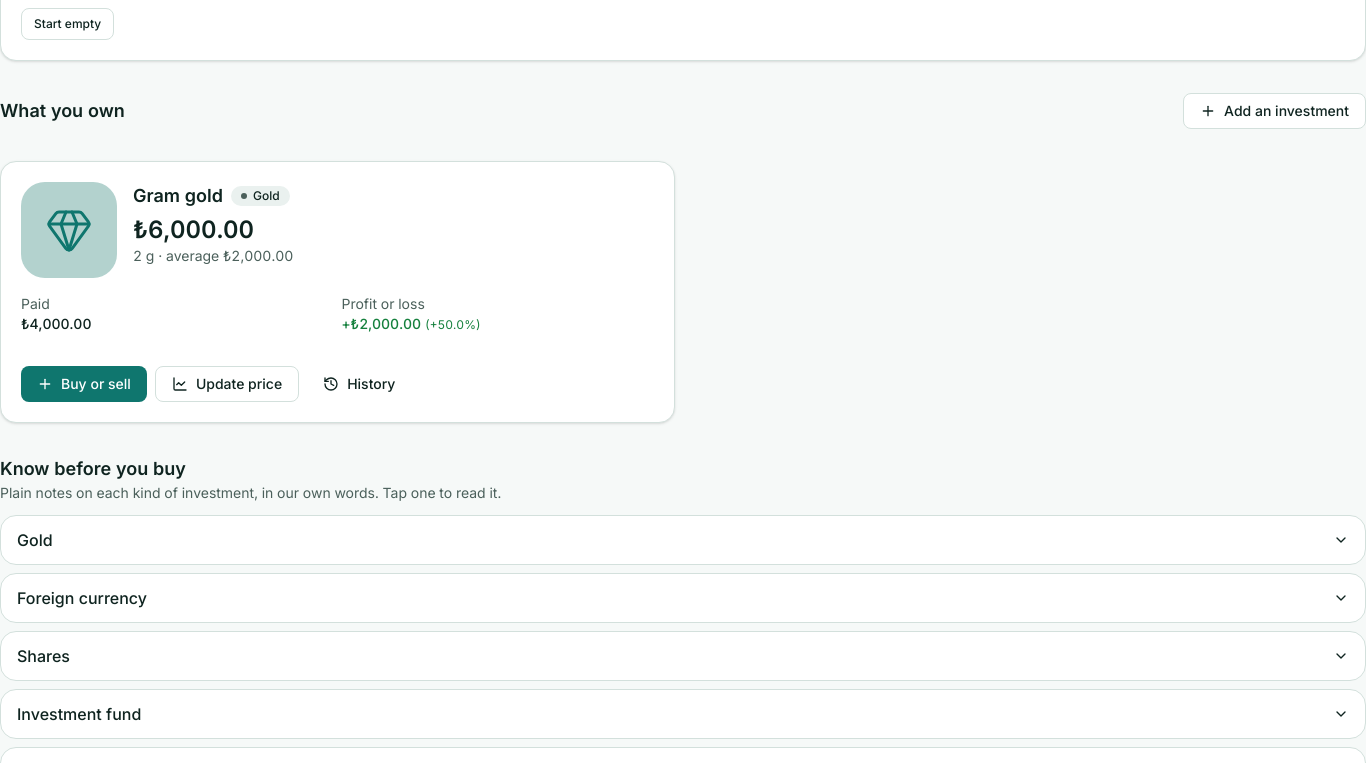
Test: InvestmentsBoard › refuses to sell more than is held
The width and height of the screenshot is (1366, 763).
(page scrolled)
Step 1. Click the button "Buy or sell" → (84, 384), box [21,366,147,402]
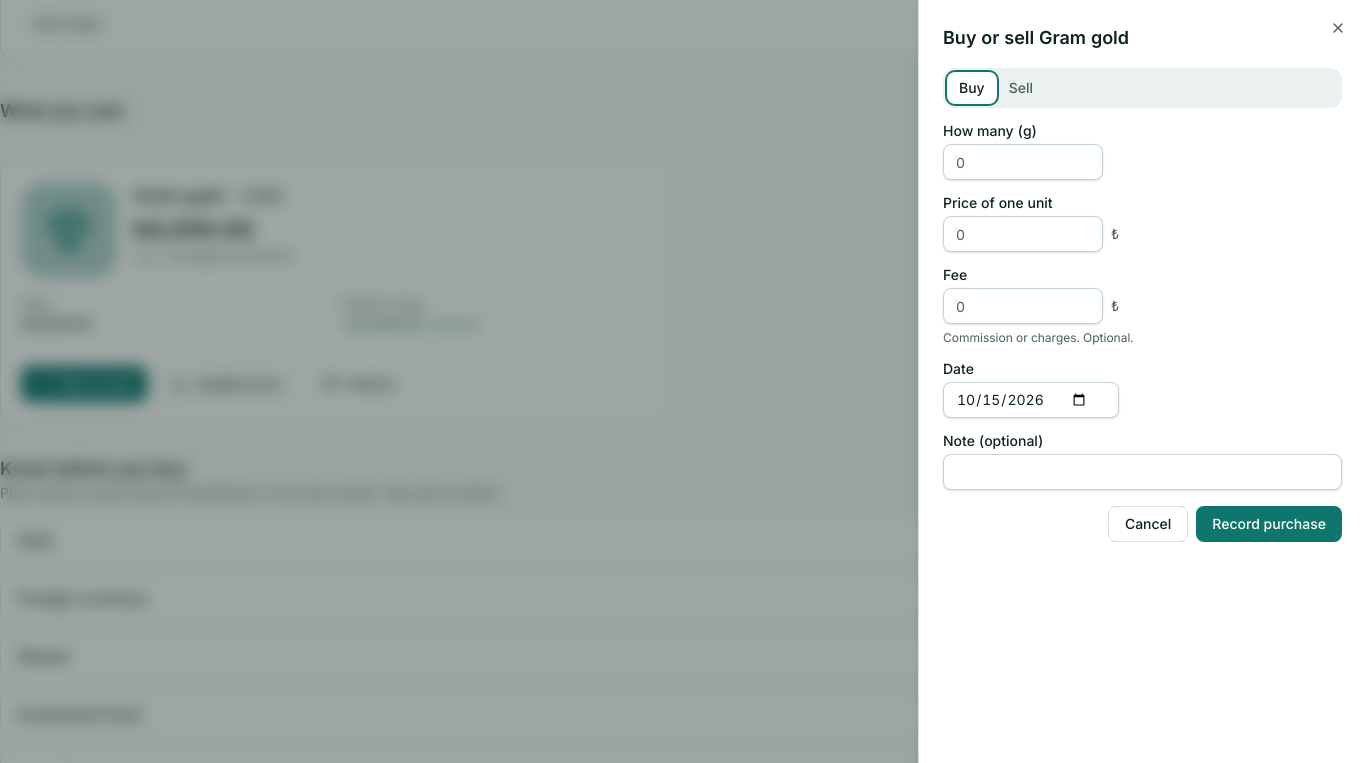
Step 2. Click the radio button "Sell" → (1021, 88), box [1009,79,1033,96]
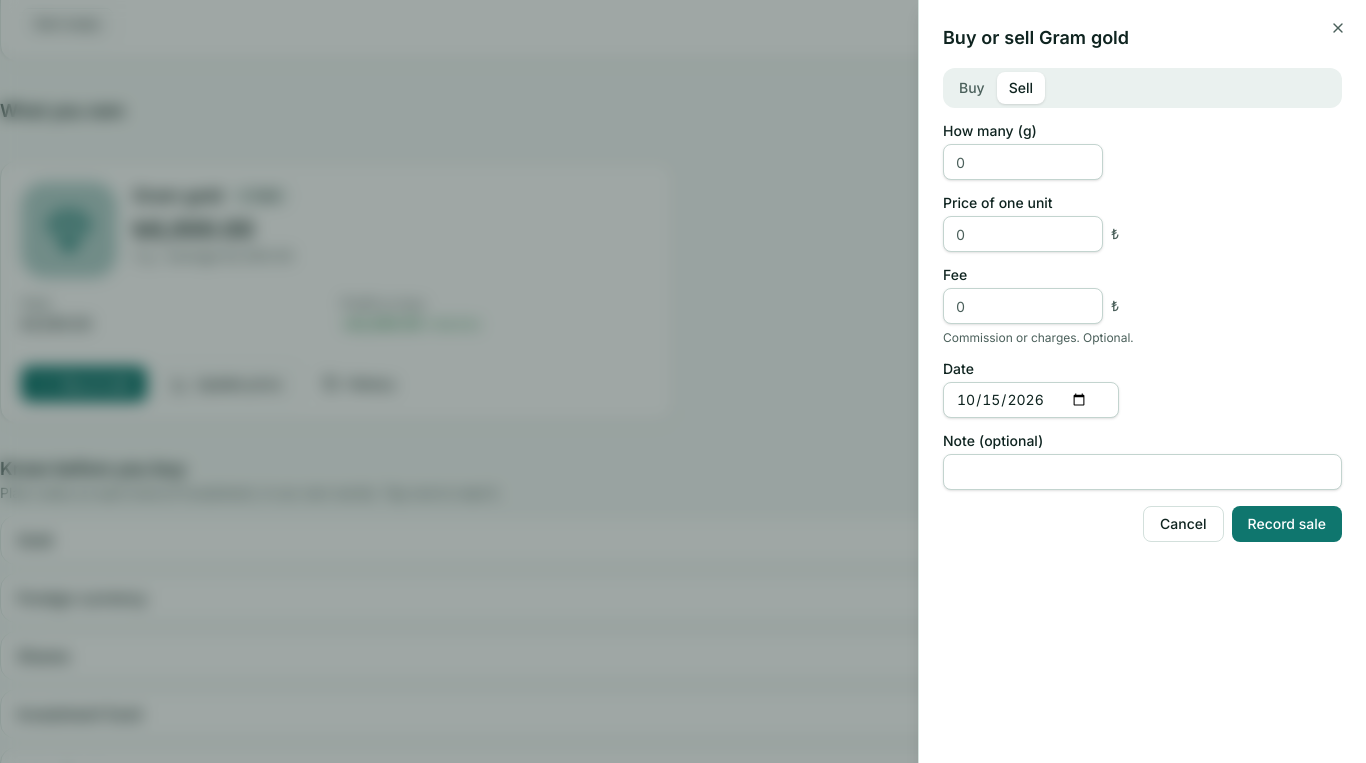
Step 3. Type "2.5" into the field labelled "How many (g)" → (1023, 162), box [943,144,1103,180]
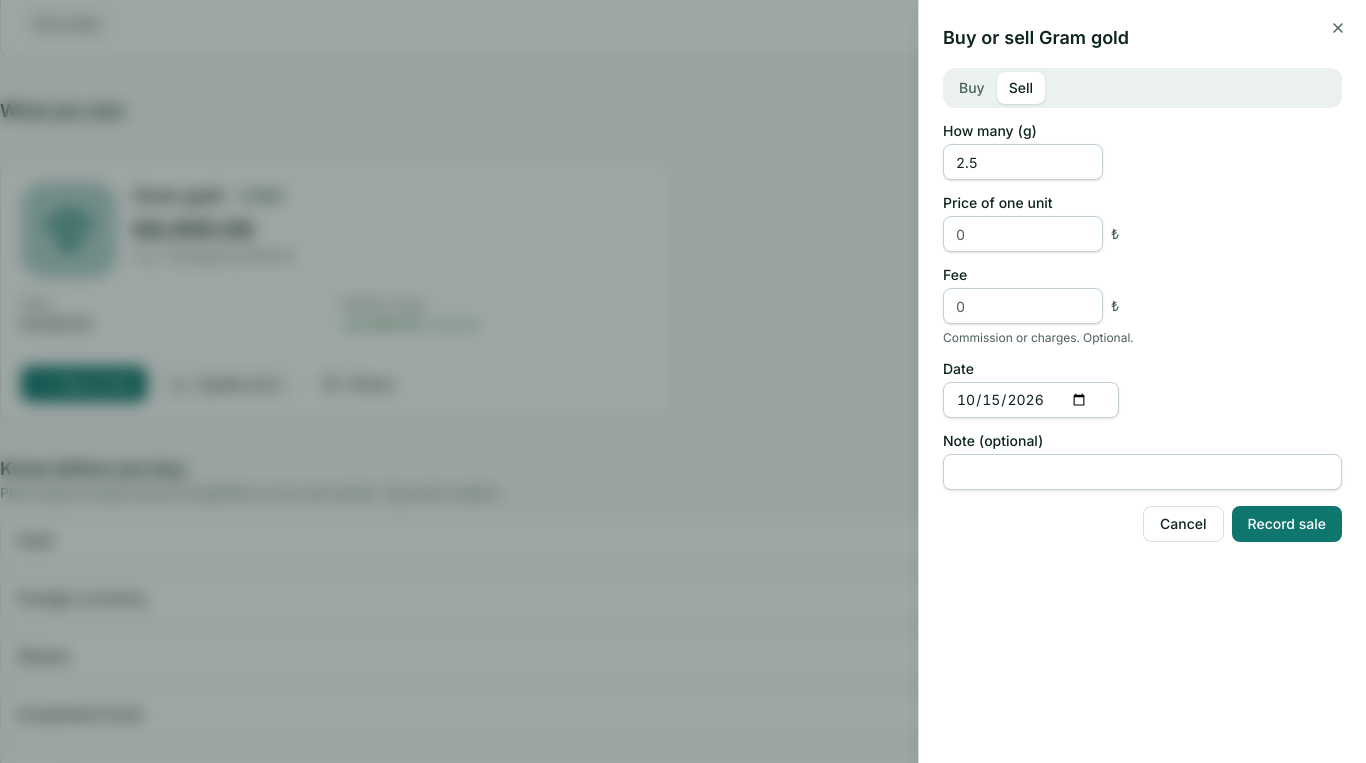
Step 4. Type "3000" into the field labelled "Price of one unit" → (1023, 234), box [943,216,1103,252]
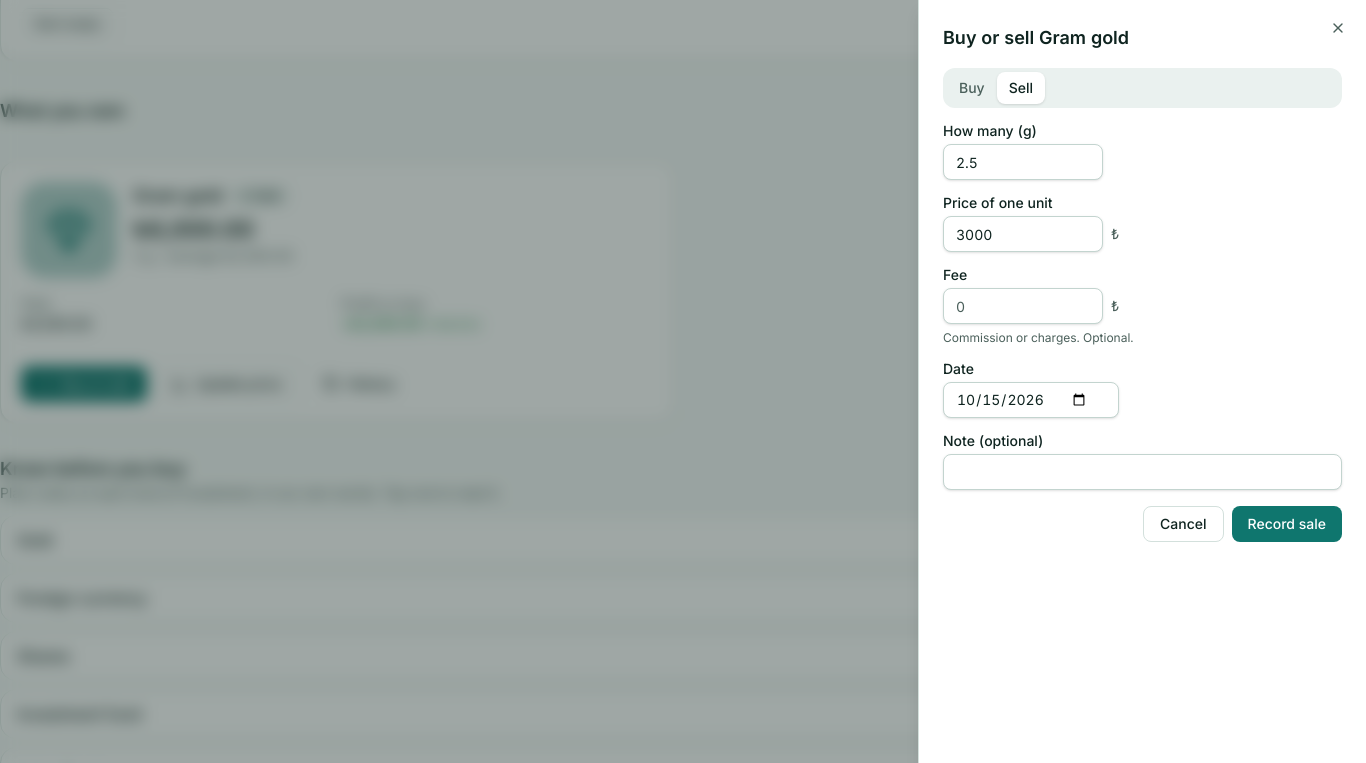
Step 5. Click the button "Record sale" → (1287, 524), box [1232,506,1342,542]
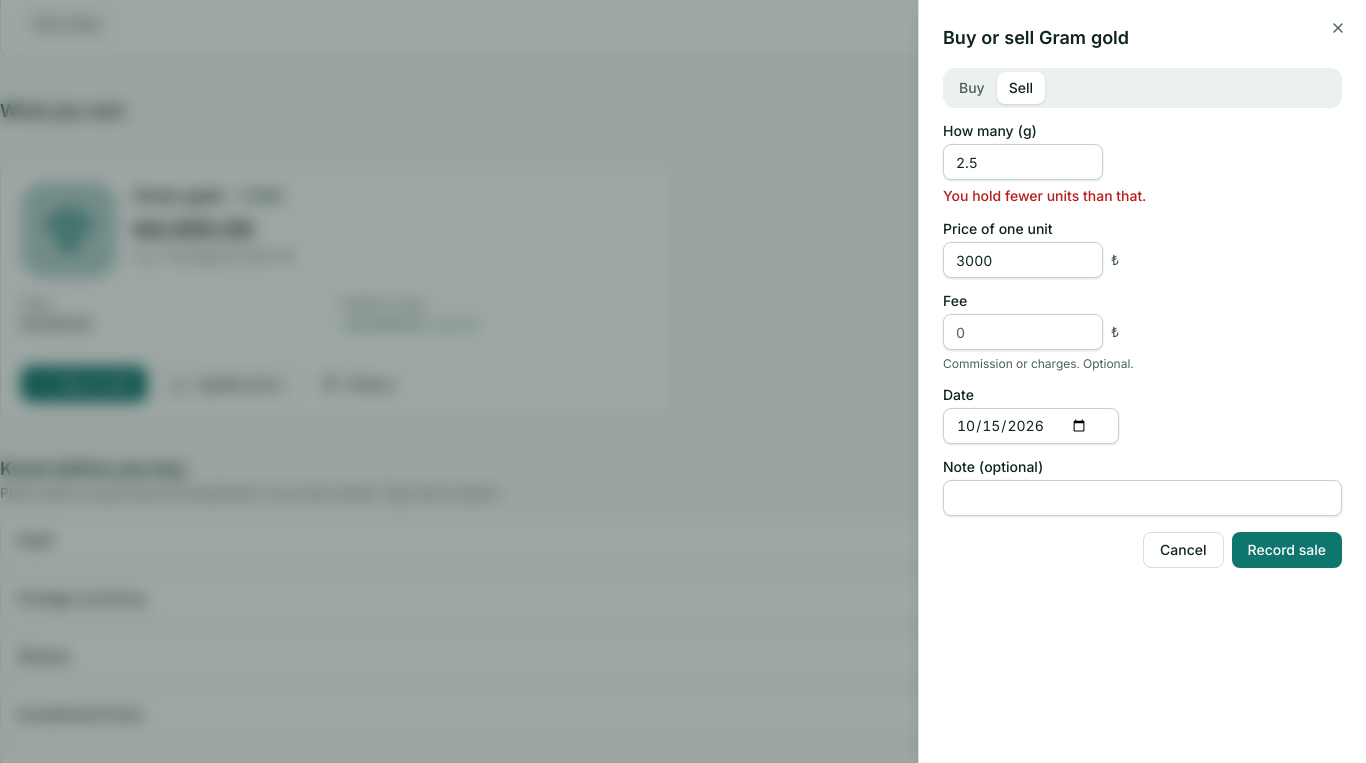
Expected: the text "You hold fewer units than that." is shown, [943,187,1146,204]
